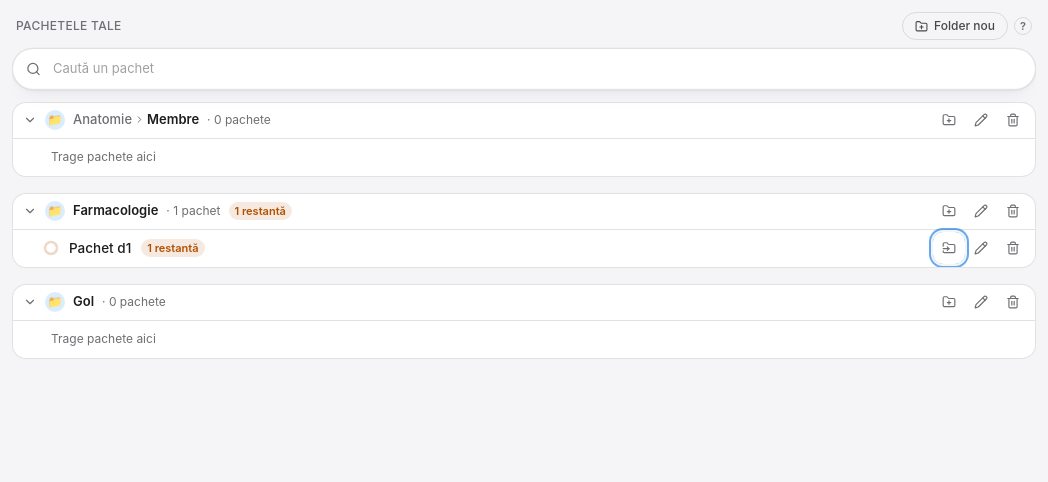
Test case: „Mută în…” › se folosește doar de la tastatură: săgeți, Enter, Esc
Click the button named "Mută pachetul Pachet d1 în…" at (949, 248), box [933,232,965,264]
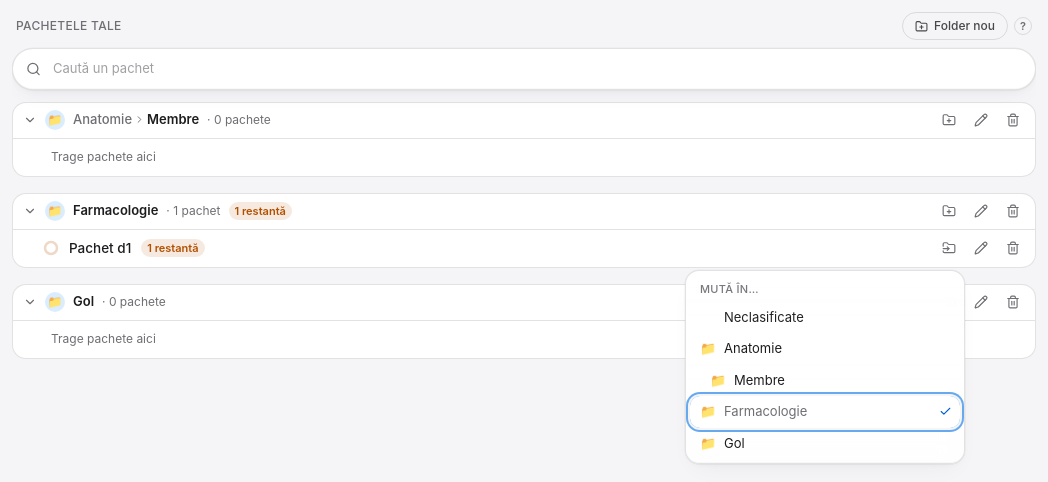
Press Home in the menu, box [685,270,965,464]
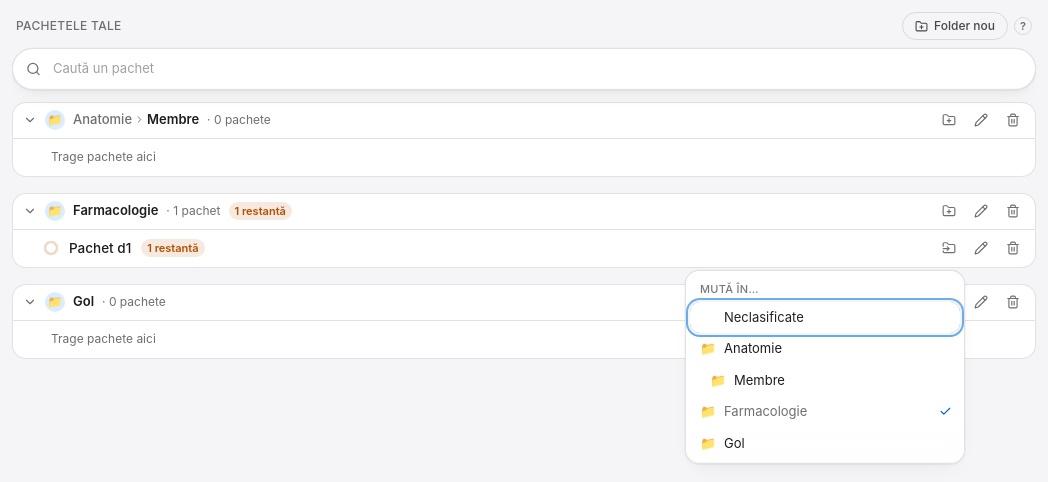
Press ArrowDown in the menu, box [685,270,965,464]
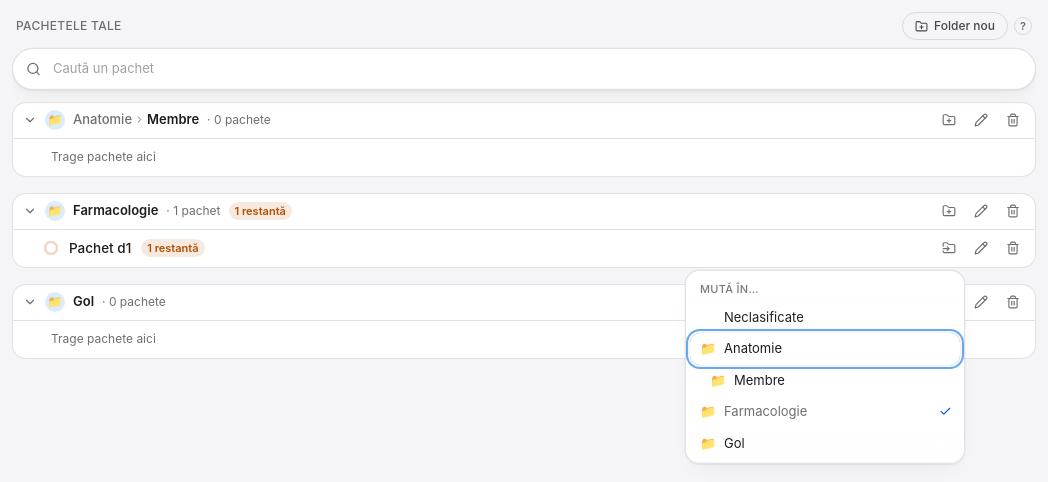
Press Escape in the menu, box [685,270,965,464]
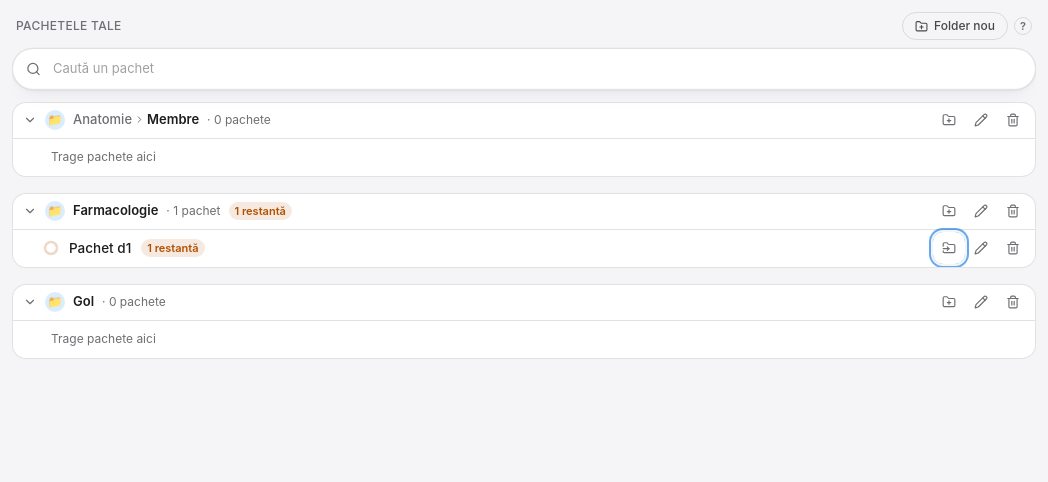
Check: the menu is gone
